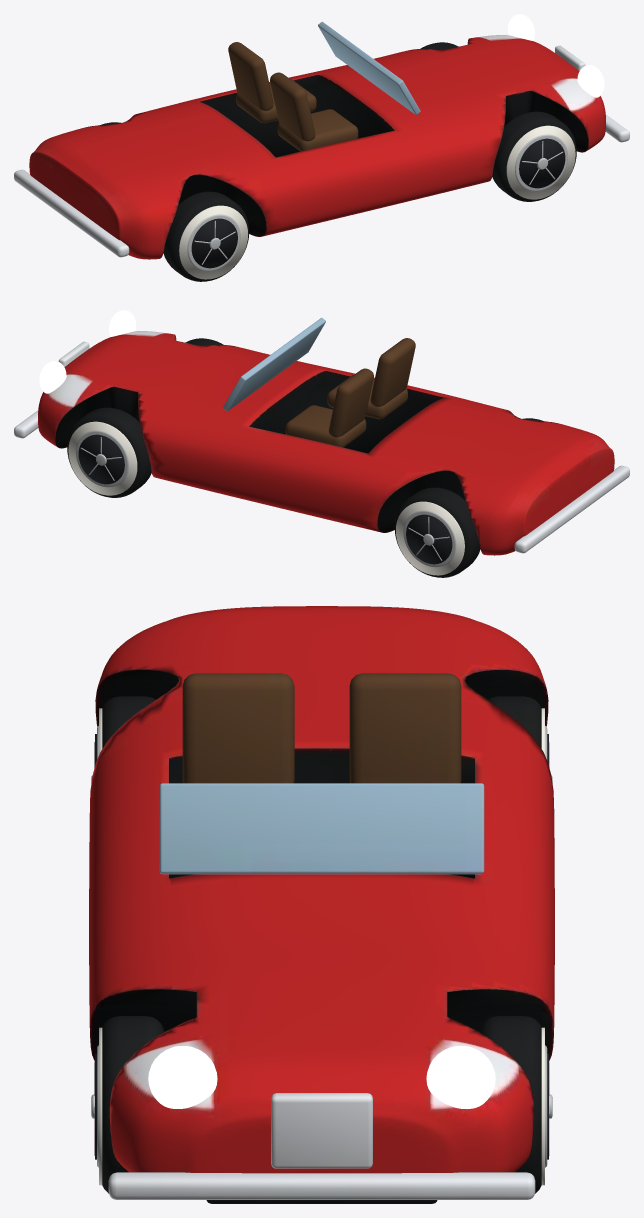
Rendered from car-classic.glb.
The picture shows the model from 3 angles, top to bottom: view 1: azimuth 30°, elevation 25°; view 2: azimuth 150°, elevation 25°; view 3: azimuth 270°, elevation 25°; orthographic projection. The views are drawn at different scales.
Parts seen in each view (by area): view 1: Body, Body_1, Body_3, Body_8, Body_9, Body_11, Body_7, Body_2, Body_10, Body_4; view 2: Body, Body_1, Body_3, Body_8, Body_9, Body_11, Body_7, Body_2, Body_10, Body_4; view 3: Body, Body_2, Body_3, Body_1, Body_7, Body_8, Body_6, Body_4, Body_9, Body_10, Body_5.
Part boxes in pixels (x1,y1,x2,y2): Body: (29,35,605,259); Body_1: (179,74,588,236); Body_3: (228,42,358,151); Body_8: (100,42,576,281); Body_9: (179,125,575,279); Body_11: (191,138,565,268); Body_7: (14,114,629,257); Body_2: (318,21,420,114); Body_10: (187,134,567,271); Body_4: (508,14,604,97); Body: (38,331,614,555); Body_1: (55,370,464,532); Body_3: (285,338,415,447); Body_8: (67,338,543,577); Body_9: (68,421,464,575); Body_11: (78,434,452,564); Body_7: (14,410,629,553); Body_2: (223,317,325,410); Body_10: (76,430,456,567); Body_4: (39,310,135,393); Body: (89,606,554,1173); Body_2: (159,783,484,874); Body_3: (182,673,461,783); Body_1: (90,670,553,1060); Body_7: (108,1172,535,1199); Body_8: (102,696,541,1193); Body_6: (271,1093,372,1168); Body_4: (148,1046,495,1108); Body_9: (99,708,544,1185); Body_10: (91,726,552,1167); Body_5: (206,1200,437,1203).
Bounding box in the file's own units: 4.44 × 1.25 × 1.75.
12 materials, 12 textured.
